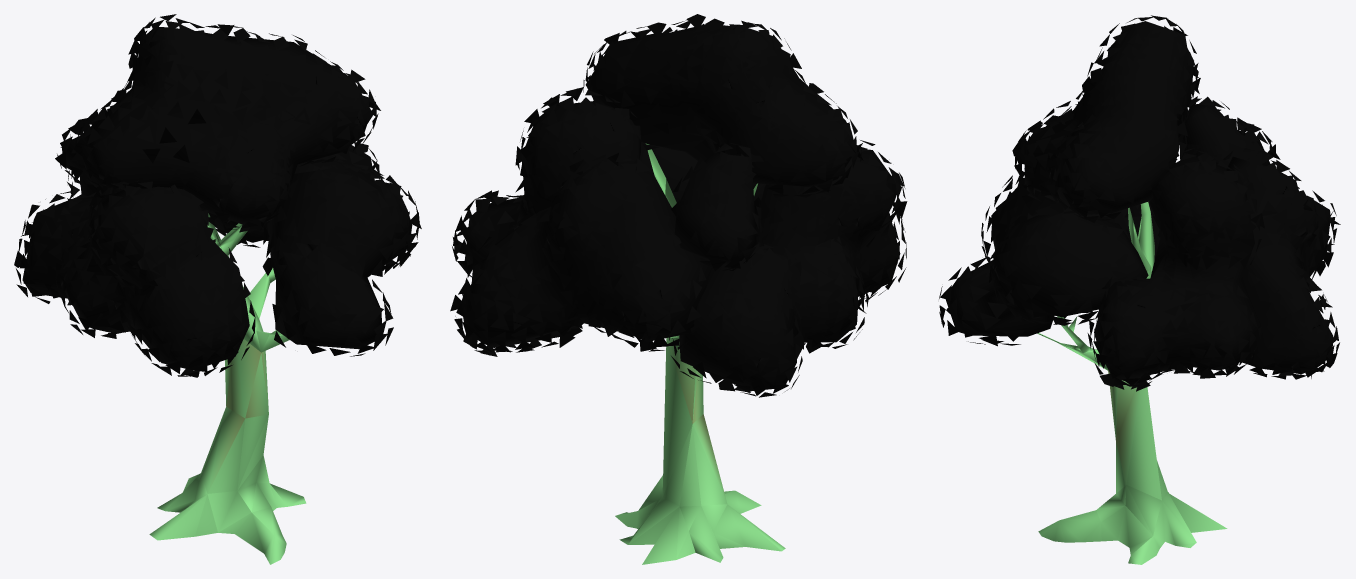
The model's file is SM_ENV_LKNVLD_Tree_A_Lod3.gltf.
3 views of the same model, side by side, from view 1: azimuth 30°, elevation 25°; view 2: azimuth 150°, elevation 25°; view 3: azimuth 270°, elevation 25° (orthographic). The views are drawn at different scales.
Visible parts, largest first — view 1: SM_ENV_LKNVLD_Tree_A_Lod3; view 2: SM_ENV_LKNVLD_Tree_A_Lod3; view 3: SM_ENV_LKNVLD_Tree_A_Lod3.
Boxes of the visible parts, bbox=[...] form: SM_ENV_LKNVLD_Tree_A_Lod3: bbox=[14, 14, 421, 564]; SM_ENV_LKNVLD_Tree_A_Lod3: bbox=[450, 14, 907, 564]; SM_ENV_LKNVLD_Tree_A_Lod3: bbox=[939, 15, 1340, 564].
Bounding box in the file's own units: 10.05 × 13.93 × 10.27.
